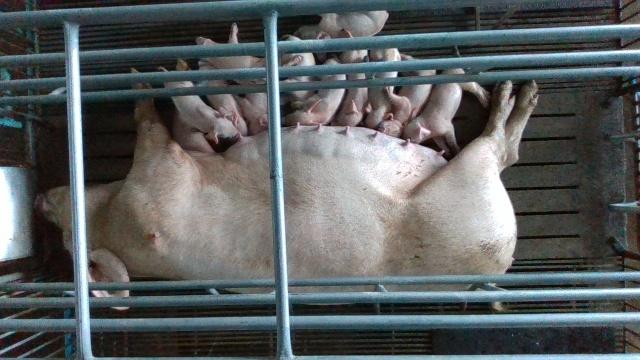piglet: (195, 15, 283, 136), (402, 71, 483, 153), (157, 65, 237, 140), (376, 53, 435, 140), (297, 11, 388, 64), (194, 61, 257, 134), (286, 57, 351, 125), (358, 38, 402, 130), (277, 35, 320, 114), (334, 47, 374, 122)
sow-sleep-lactate: (32, 56, 539, 313)
